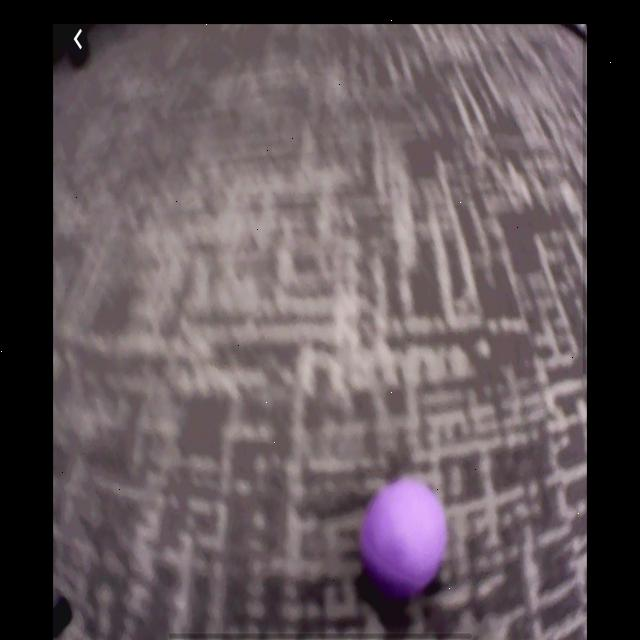ball: (365, 478, 450, 599)
